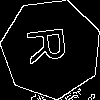R: (26, 24, 76, 66)
